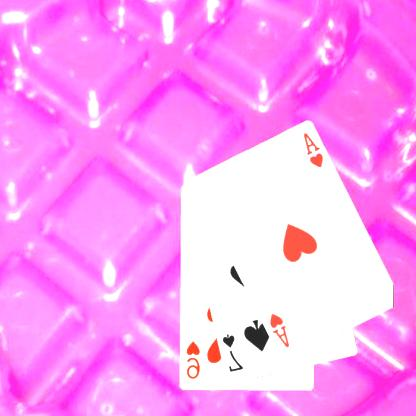7S: (221, 332, 246, 374)
9H: (184, 339, 202, 381)
AH: (302, 130, 326, 170), (268, 311, 292, 349)
